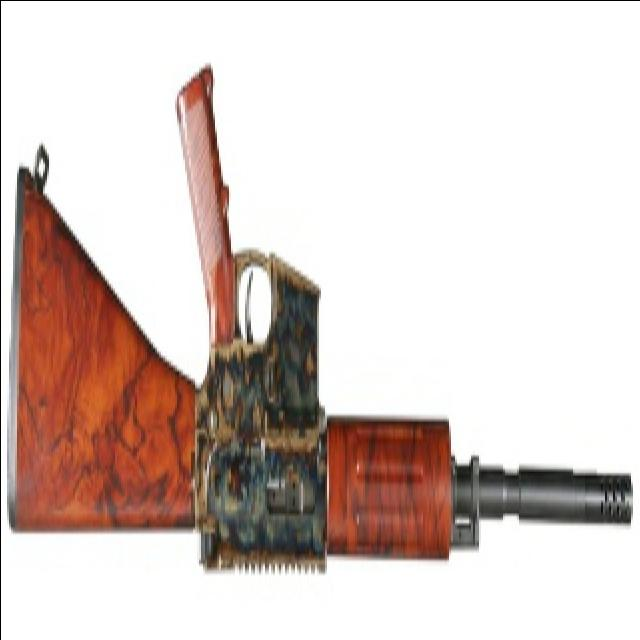rifle: (3, 65, 639, 581)
